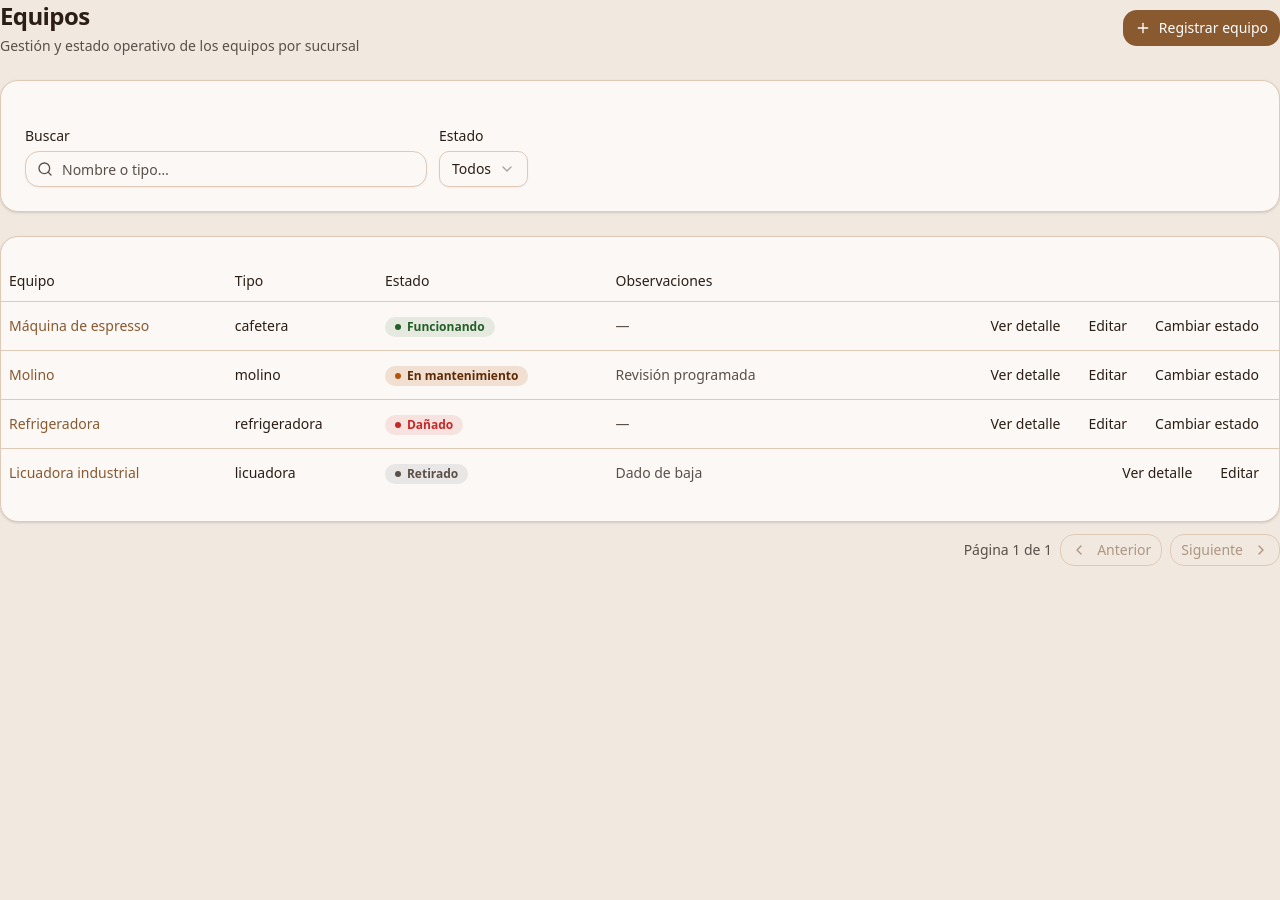
Gestión de equipos › el Gerente registra un equipo en su sucursal sin elegirla
Expected: the link "Máquina de espresso" is shown, [9, 316, 149, 334]
Click the button "Registrar equipo".
click(1201, 28)  # box [1123, 10, 1279, 46]
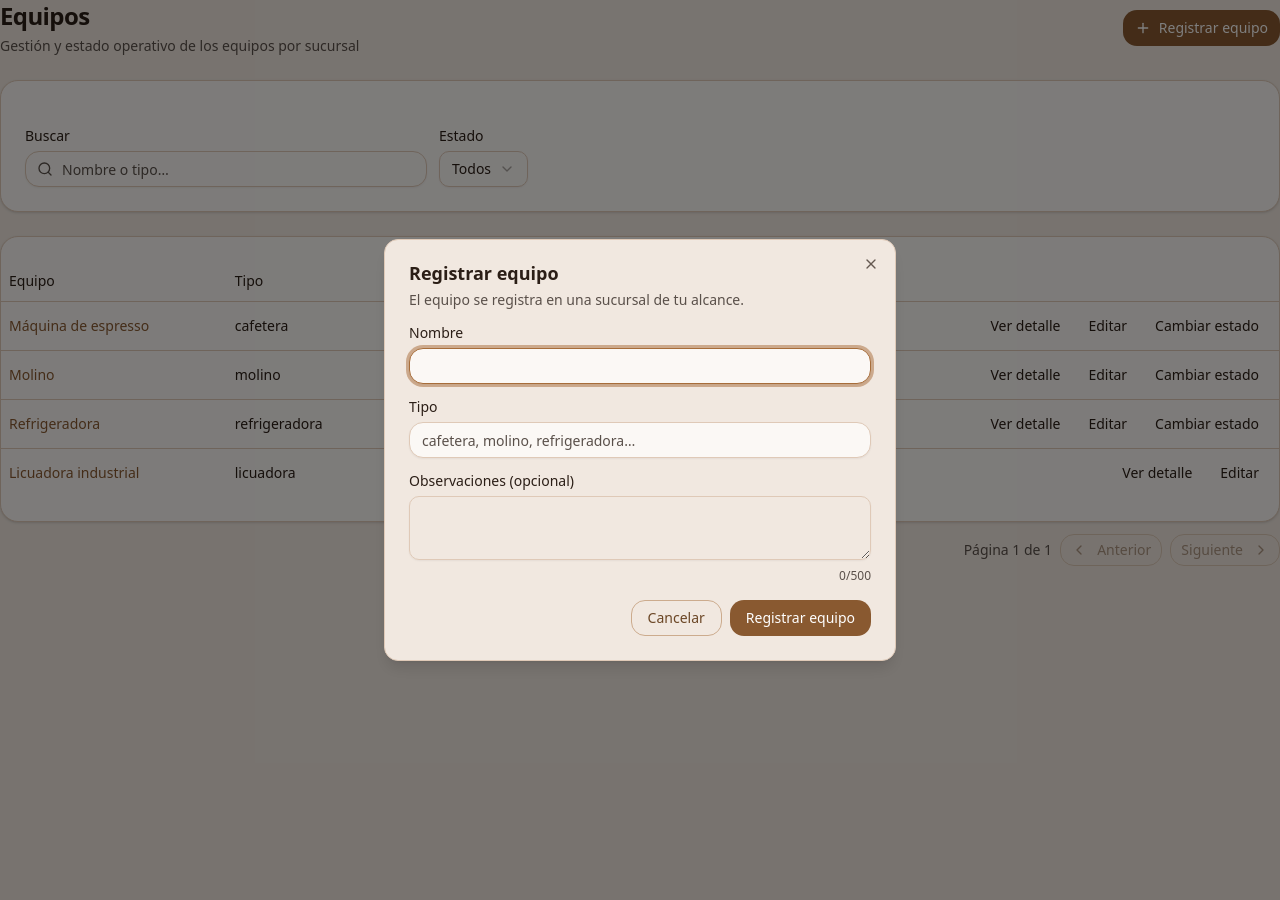
Type "Molino nuevo" into the field labelled "Nombre".
click(640, 366); type("Molino nuevo")  # box [409, 348, 871, 384]
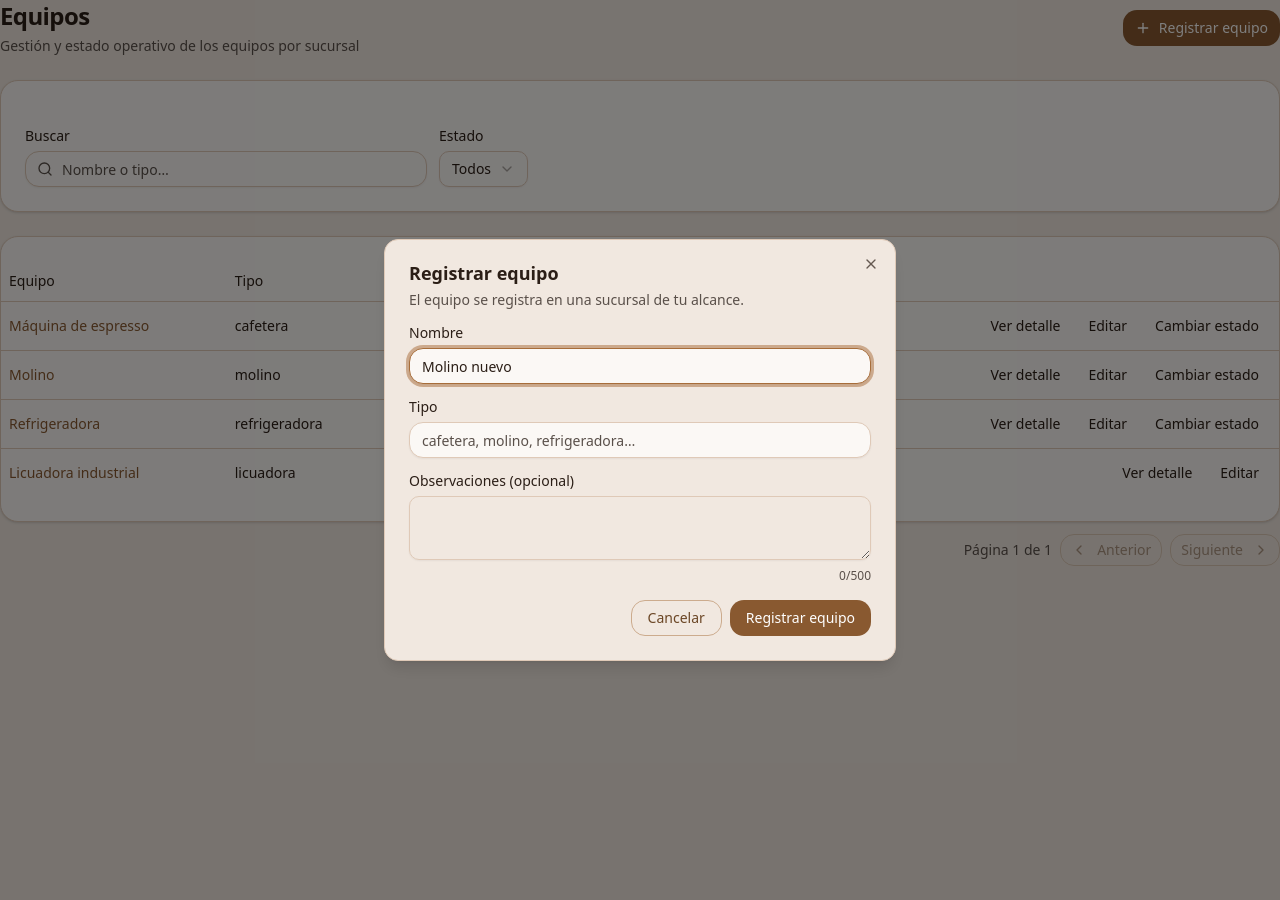
Type "molino" into the field labelled "Tipo".
click(640, 440); type("molino")  # box [409, 422, 871, 458]
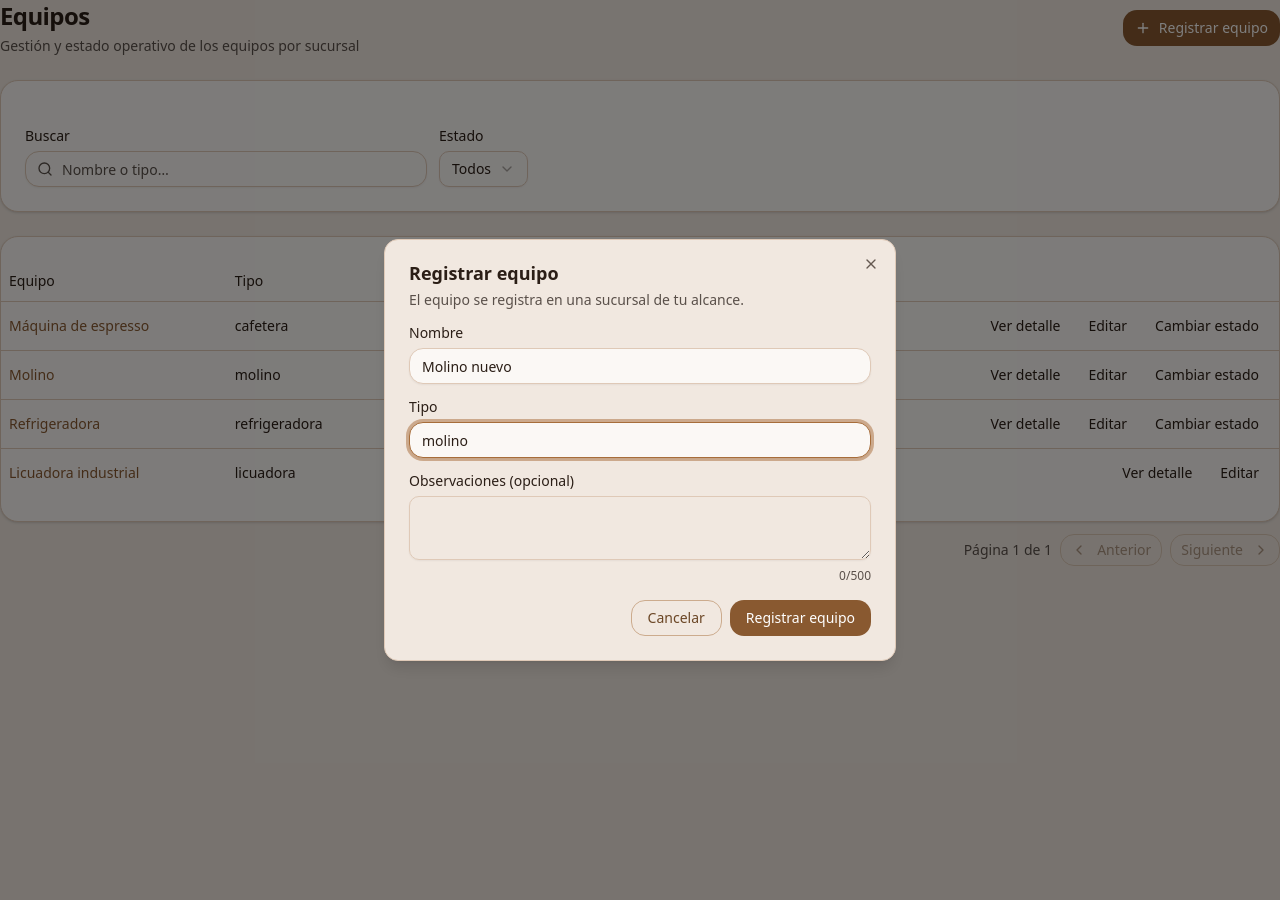
Click the button "Registrar equipo".
click(800, 618)  # box [730, 600, 871, 636]
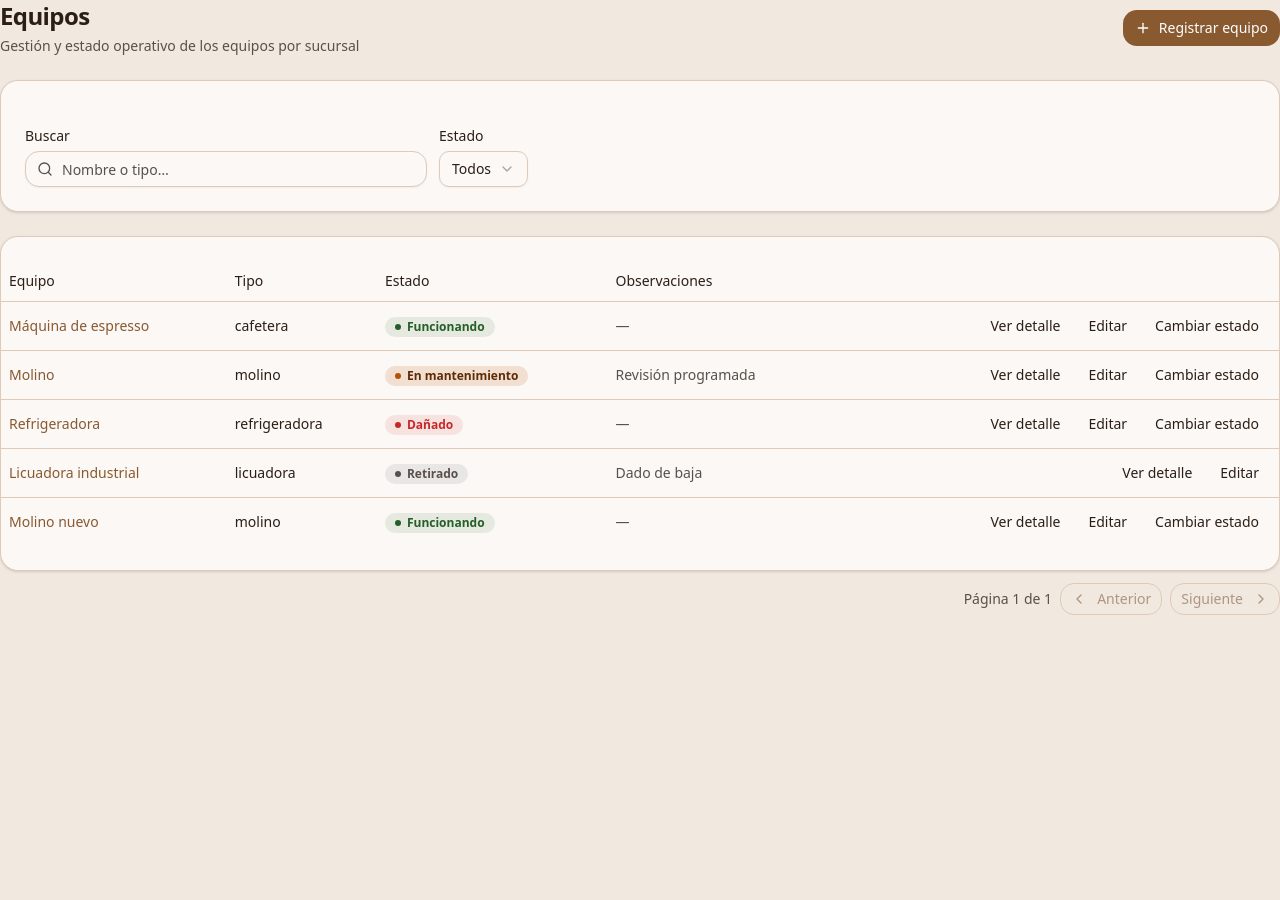
Expected: the link "Molino nuevo" is shown, [9, 512, 99, 530]
